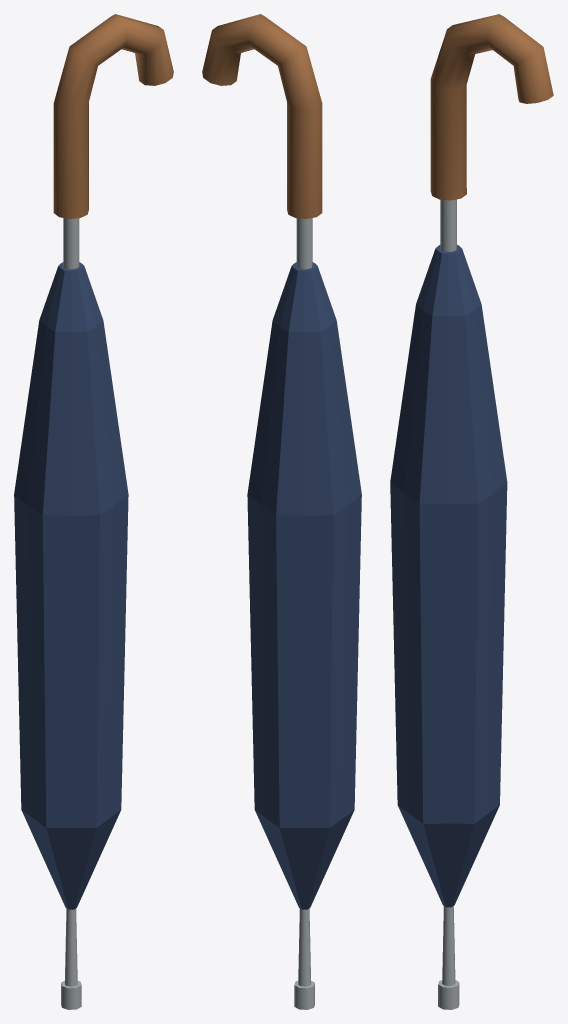
The model's file is umbrella_closed.glb.
3 views of the same model, side by side, from view 1: azimuth 30°, elevation 25°; view 2: azimuth 150°, elevation 25°; view 3: azimuth 330°, elevation 25° (orthographic). The views are drawn at different scales.
Parts seen in each view (by area): view 1: umbrella_closed; view 2: umbrella_closed; view 3: umbrella_closed.
Boxes of the visible parts, bbox=[...] form: umbrella_closed: bbox=[14, 14, 173, 1009]; umbrella_closed: bbox=[202, 14, 361, 1009]; umbrella_closed: bbox=[390, 14, 553, 1009].
Size of the model in its own units: 0.138 by 0.8993 by 0.0953.
